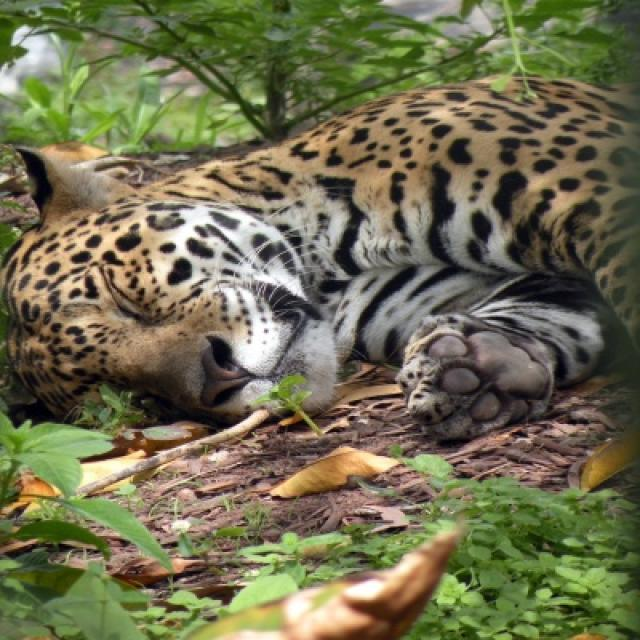Jaguar: (0, 80, 638, 438)
